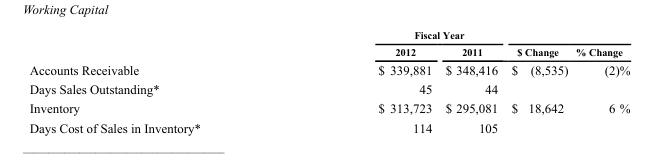table: (28, 28, 629, 134)
table column: (28, 28, 288, 134), (288, 28, 438, 134), (503, 28, 571, 134), (438, 28, 503, 134), (571, 28, 629, 134)
table column header: (28, 28, 629, 59)
table row: (28, 78, 629, 98), (28, 59, 629, 78), (28, 98, 629, 117), (28, 42, 629, 59), (28, 117, 629, 134), (28, 28, 629, 42)
table spanning cell: (288, 28, 503, 42), (503, 28, 571, 59), (571, 28, 629, 59)
